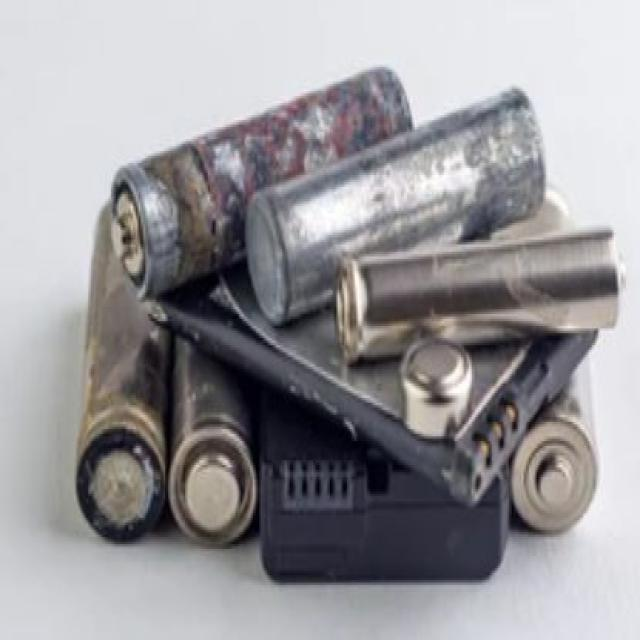electronic: (229, 63, 626, 420)
